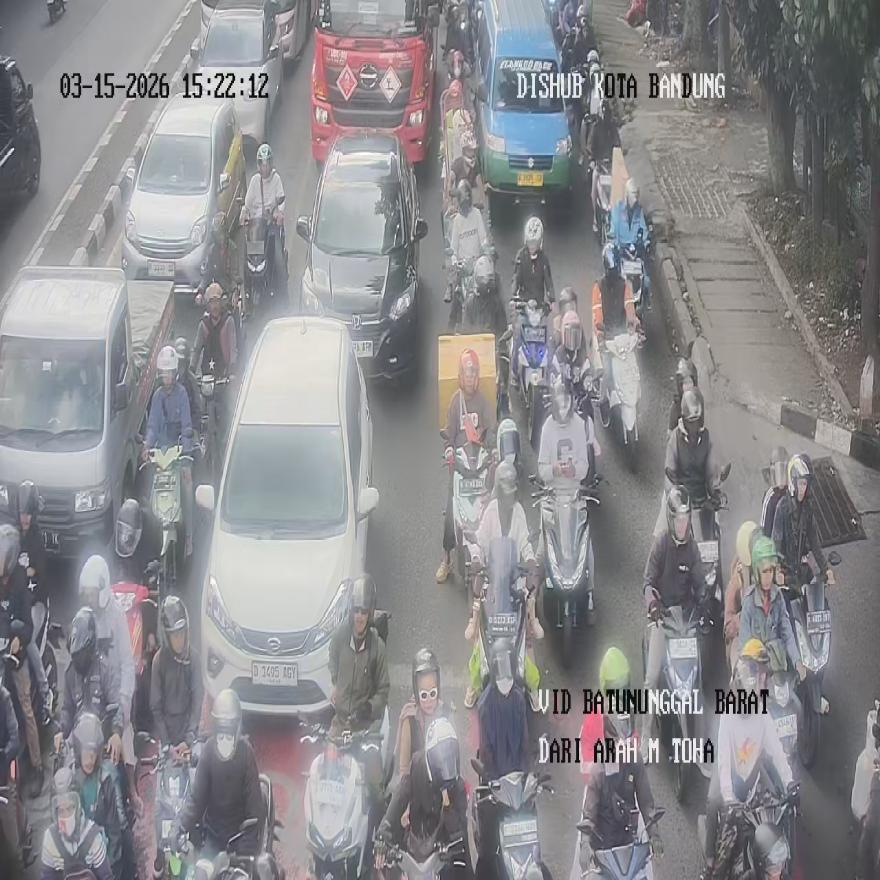Mobil: (195, 314, 379, 717), (0, 265, 175, 559), (293, 131, 428, 381), (121, 94, 245, 291), (475, 0, 575, 220), (185, 5, 283, 144)
Motor: (301, 709, 393, 879), (531, 477, 600, 668), (655, 606, 711, 802), (471, 758, 553, 879), (193, 775, 285, 879), (467, 538, 527, 690), (715, 770, 796, 879), (141, 739, 203, 879), (112, 560, 163, 729), (787, 576, 831, 768), (141, 444, 193, 596), (196, 214, 246, 356), (439, 82, 475, 266), (511, 296, 550, 449), (452, 443, 491, 589), (582, 810, 664, 879), (604, 330, 643, 470), (445, 236, 497, 332), (691, 493, 726, 630), (245, 212, 288, 320), (0, 757, 36, 868), (457, 252, 505, 334), (31, 596, 63, 717), (576, 52, 604, 188), (32, 597, 63, 716), (768, 670, 801, 779), (381, 838, 466, 879), (199, 374, 229, 490), (573, 64, 602, 184), (852, 700, 879, 828), (557, 349, 601, 425), (200, 212, 242, 290), (0, 636, 27, 754), (620, 229, 653, 322), (561, 31, 589, 140), (111, 758, 136, 877), (245, 217, 272, 318), (223, 279, 247, 361), (590, 159, 612, 248), (570, 365, 600, 428), (497, 418, 525, 485), (621, 244, 644, 321), (445, 0, 472, 63), (496, 326, 513, 421), (575, 96, 598, 145), (447, 49, 471, 94), (101, 703, 118, 757), (551, 0, 567, 47), (544, 0, 561, 37), (47, 0, 66, 24)
Truk berat: (309, 0, 439, 163)
